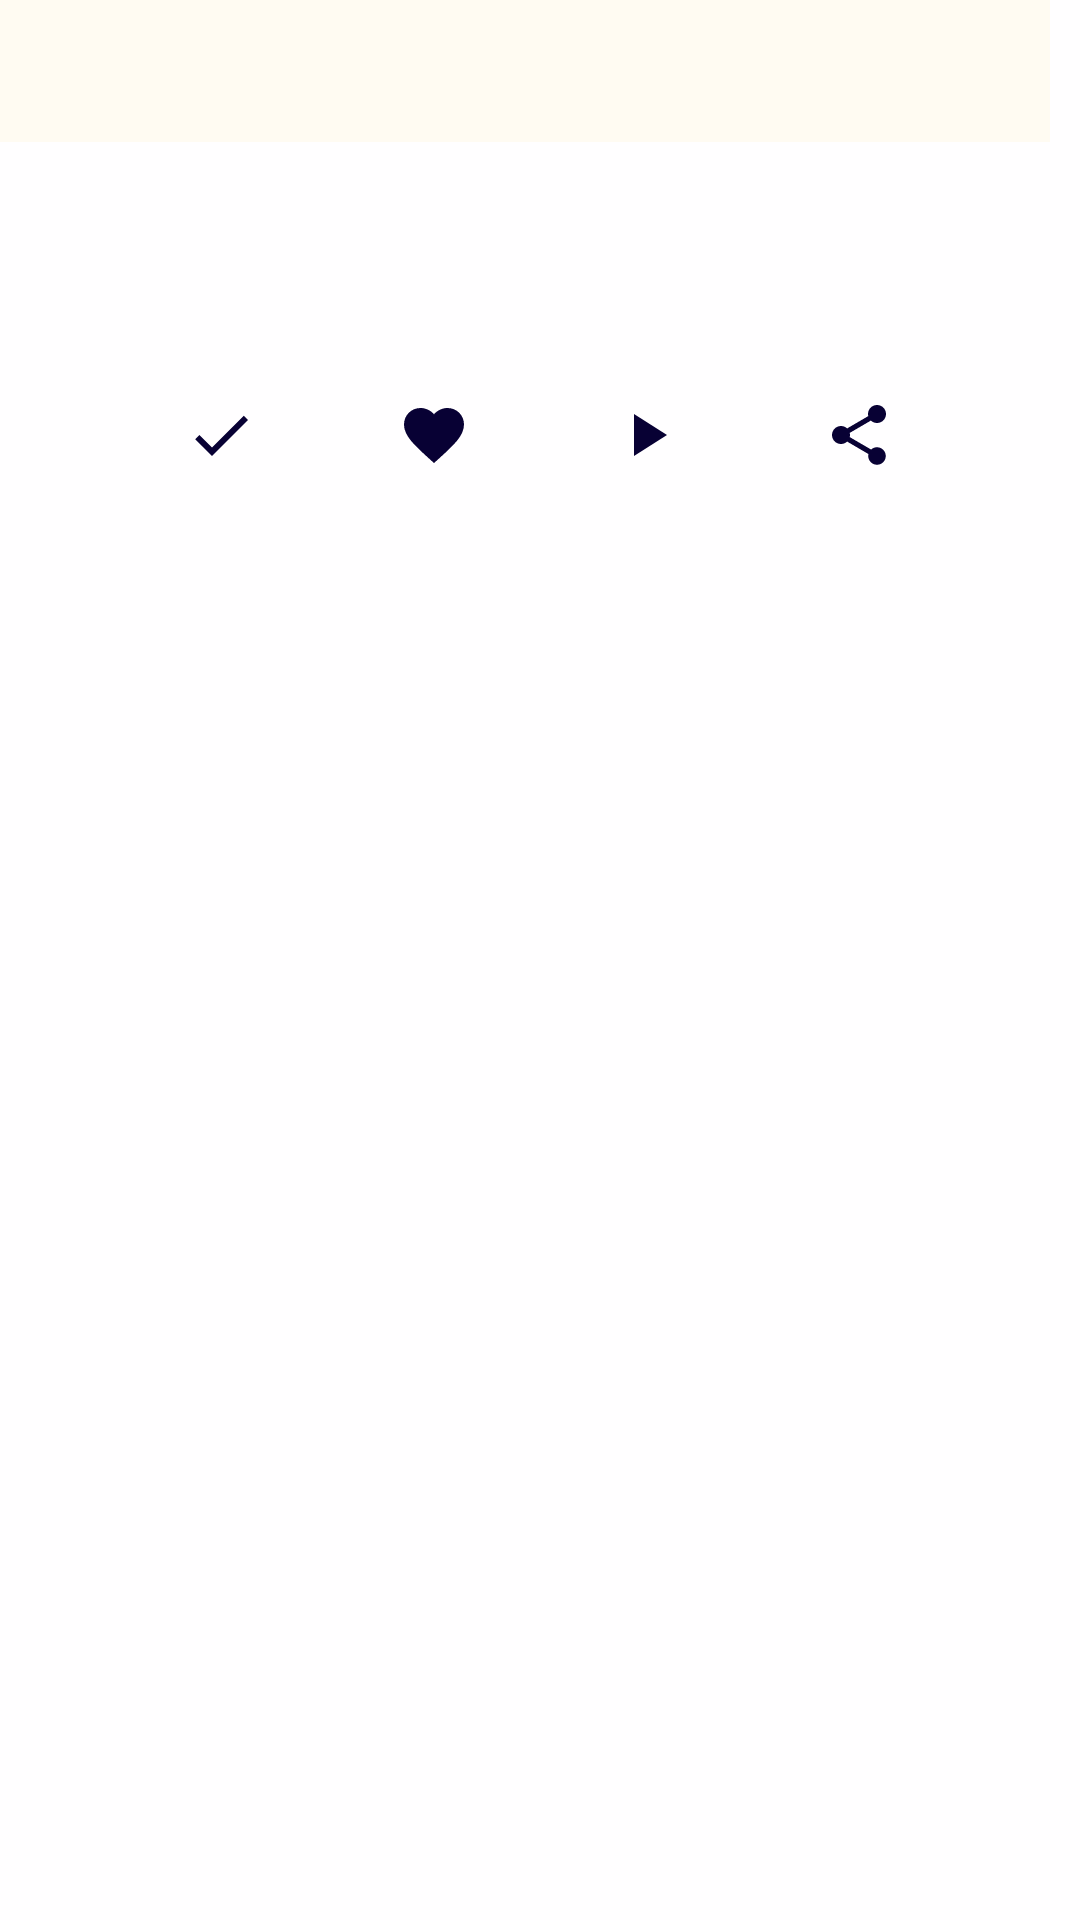

Icon bounding boxes for this 1080 × 1920 phone screenshot, format (x1, y1, x2, y2):
done: (195, 416, 248, 456)
favorite: (404, 408, 464, 463)
play arrow: (634, 414, 667, 456)
share: (832, 405, 886, 465)
